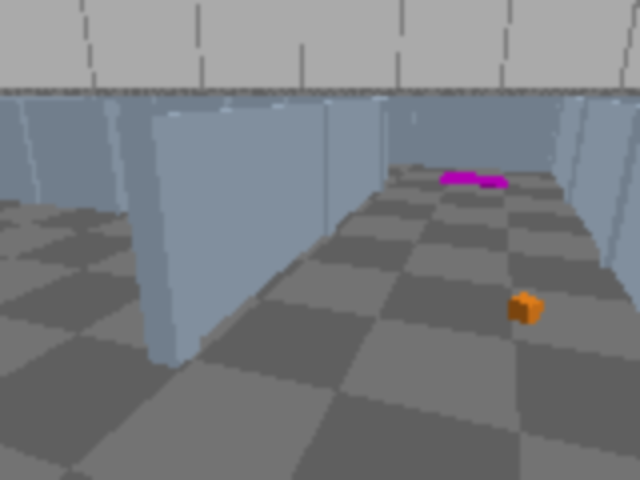goal_zone: (439, 172, 506, 188)
puck: (507, 293, 544, 326)
